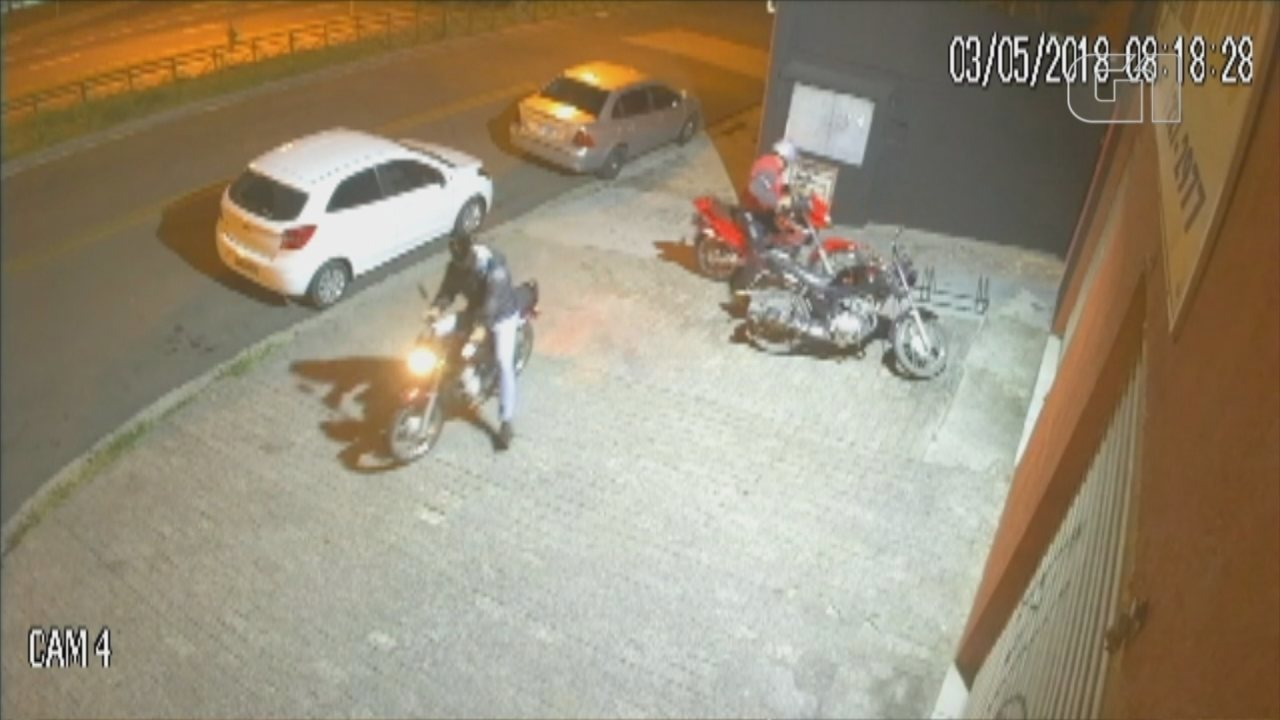Humano: (447, 224, 521, 452), (743, 132, 792, 253)
